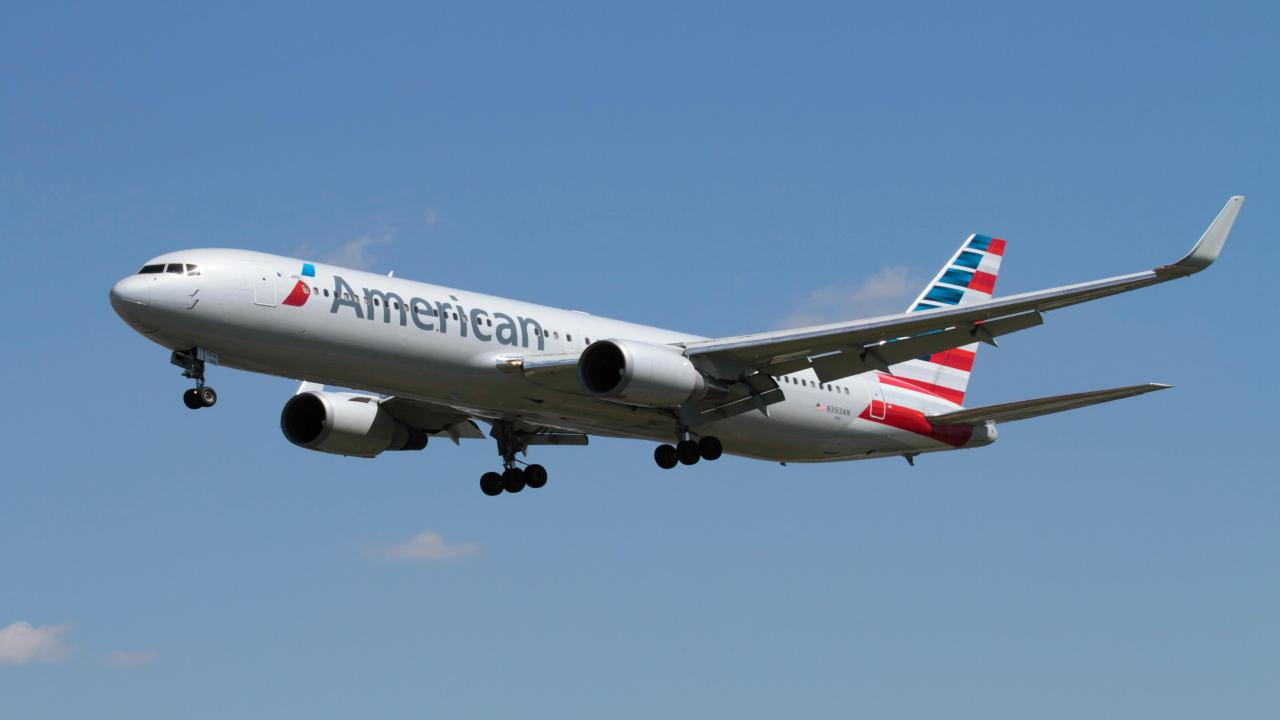Airplane: (88, 178, 1256, 510)
